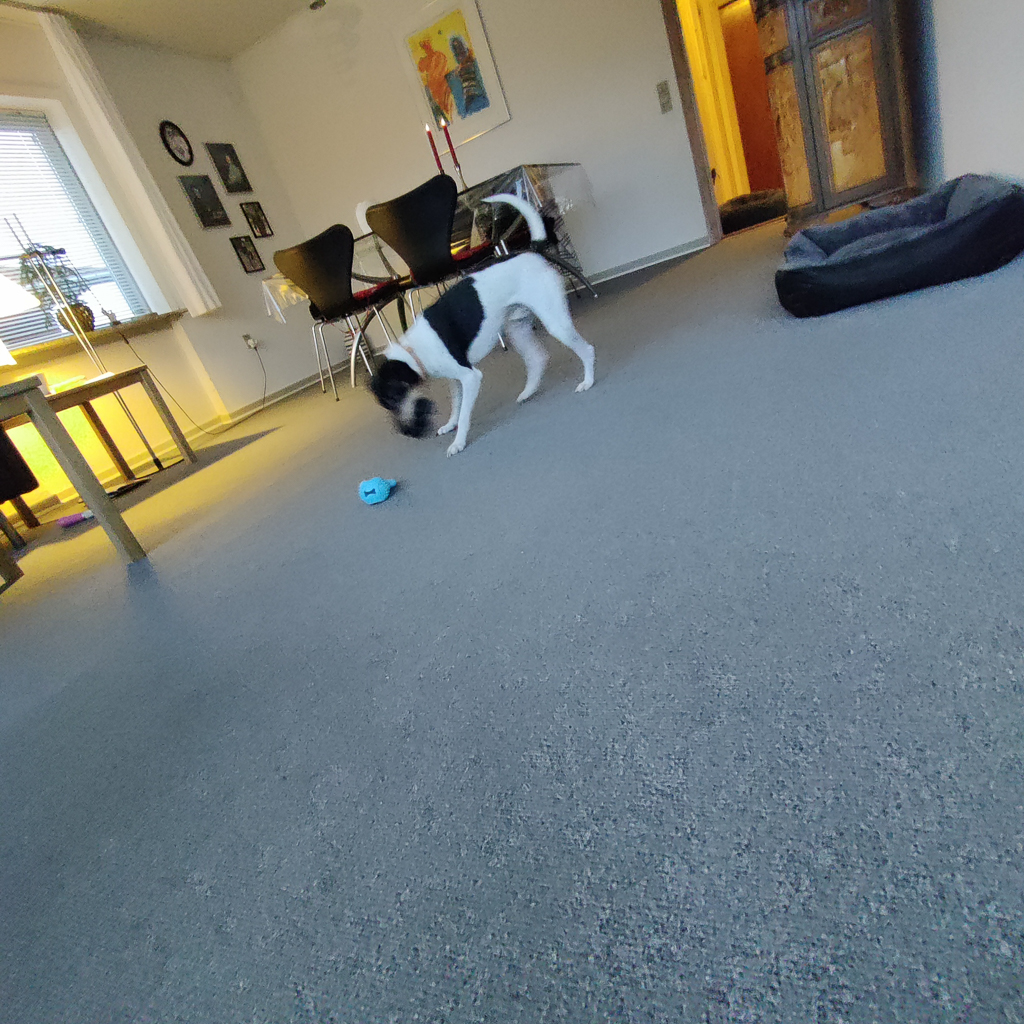Dog: (332, 178, 619, 463)
